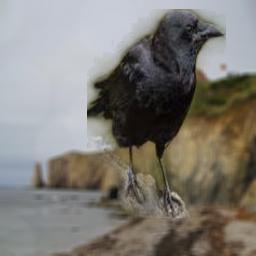Crow: (87, 9, 226, 218)
